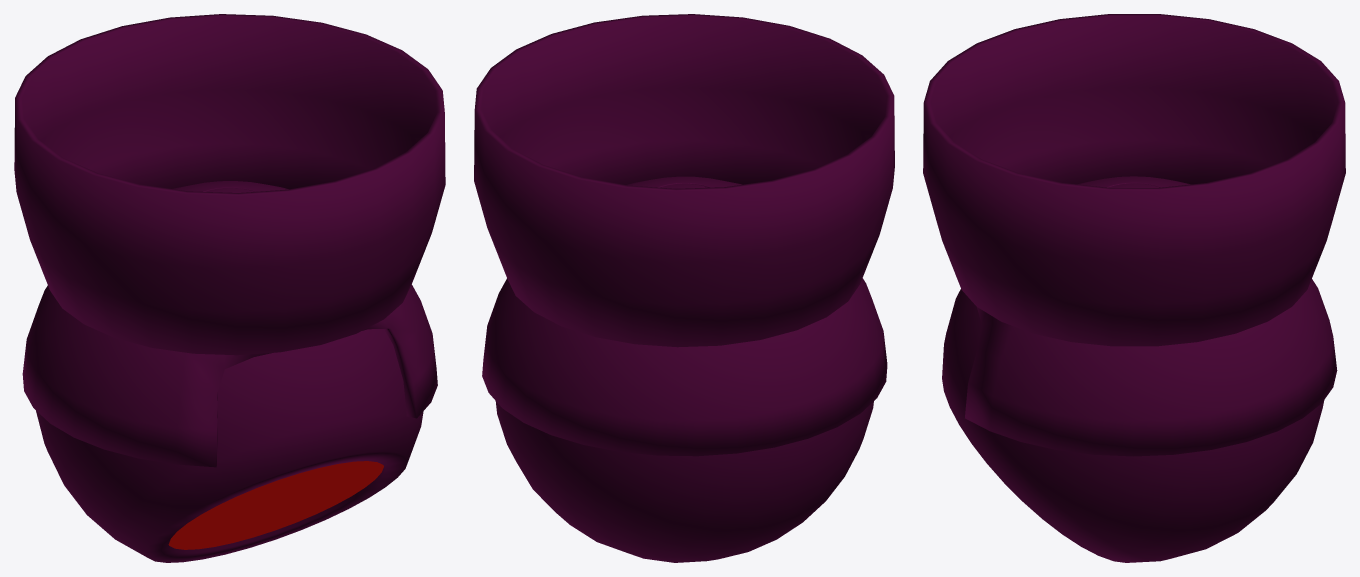
Rendered from Camera.fbx.
3 views of the same model, side by side, from view 1: azimuth 30°, elevation 25°; view 2: azimuth 150°, elevation 25°; view 3: azimuth 270°, elevation 25° (orthographic). The views are drawn at different scales.
Visible parts, largest first — view 1: Camera_LOD0; view 2: Camera_LOD0; view 3: Camera_LOD0.
Boxes of the visible parts, x1=… form: Camera_LOD0: x1=14, y1=14, x2=445, y2=562; Camera_LOD0: x1=474, y1=14, x2=894, y2=562; Camera_LOD0: x1=923, y1=14, x2=1345, y2=562.
Size of what is drawn, in the model's own units: 105 by 122 by 106.
